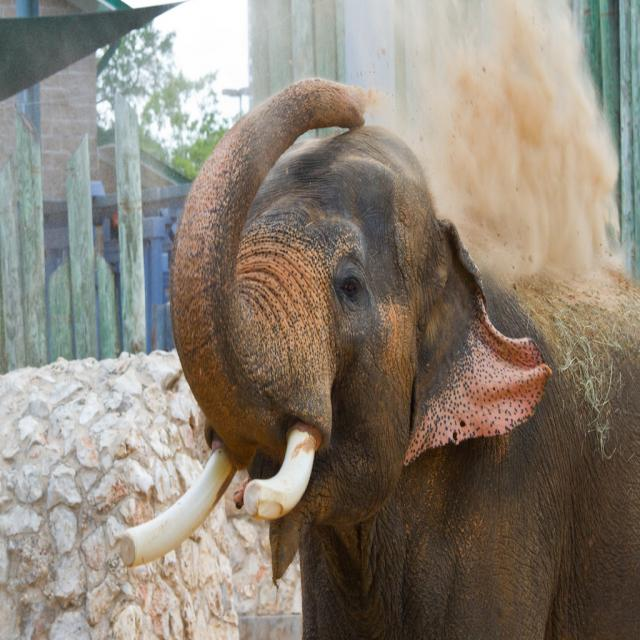Elephant: (119, 74, 640, 639)
